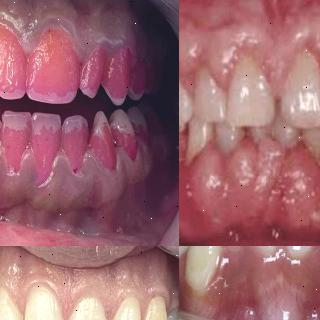Gum Swelling: (179, 28, 320, 101), (179, 134, 320, 200)
maligned: (179, 246, 225, 299), (179, 246, 199, 268)
